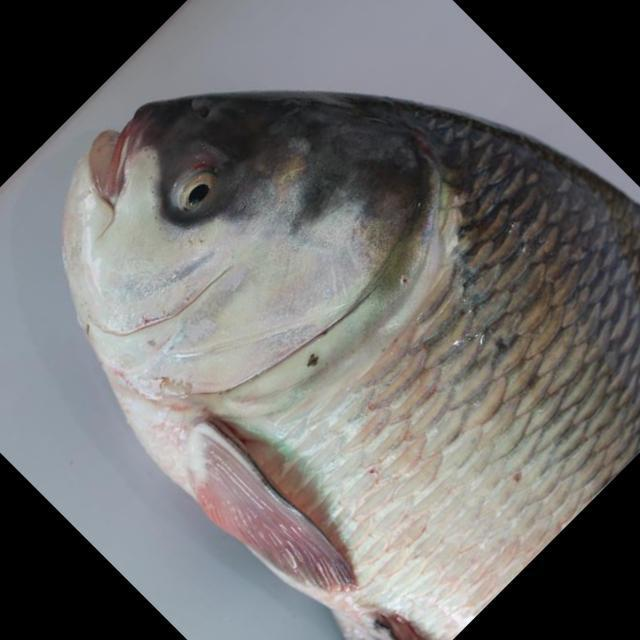Catla: (58, 92, 640, 640)
